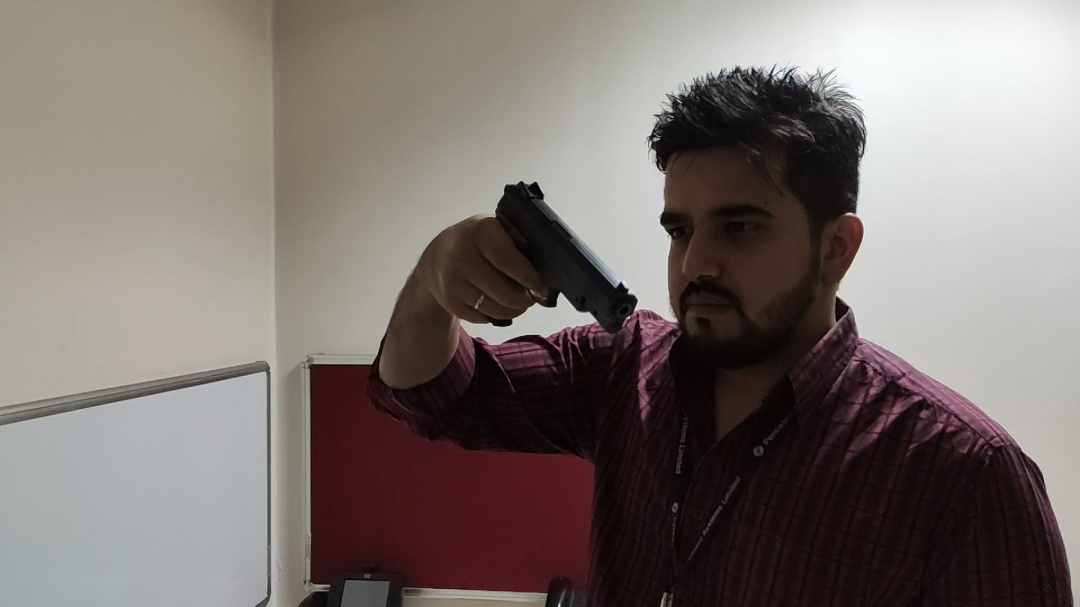gun: (472, 177, 643, 341)
